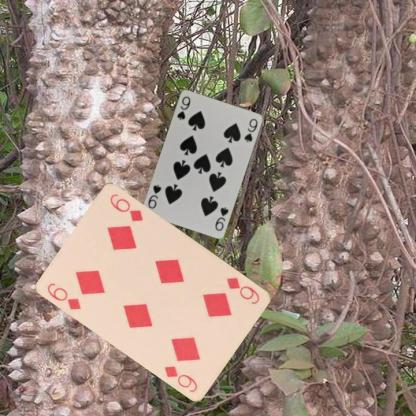6d: (42, 280, 82, 312), (224, 274, 261, 306)
9s: (174, 94, 192, 121), (212, 204, 229, 232)
